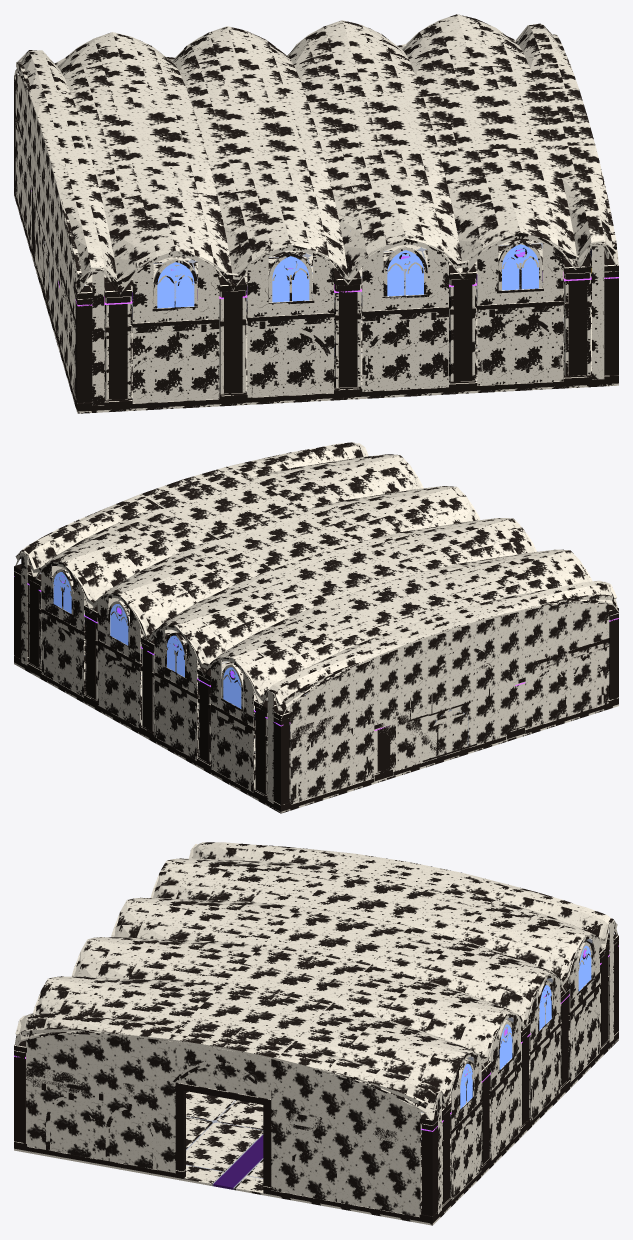
File: ILHA3_03_MINING_HALL_ac1e1a.fbx
3 renders of one model, top to bottom at view 1: azimuth 30°, elevation 25°; view 2: azimuth 150°, elevation 25°; view 3: azimuth 270°, elevation 25°, orthographic. The views are drawn at different scales.
Visible parts, largest first — view 1: SG_Hall_Vault__Stone_SGHallVault, SG_Hall_Piers__Stone_SG_Castle, SG_Hall_Piers__Stone_SG_Castle_B, SG_Hall_Piers__Stone_SG_Obsidian, SG_Hall_Windows__Glass_SGHallMoon, SG_Hall_Piers__Stone_SG_Trim, SG_Hall_Piers__Stone_SGHallNiche, SG_Hall_Vault__Stone_SG_Obsidian, SG_Hall_Windows__Stone_SG_Trim, SG_Hall_Floor__Stone_SG_Obsidian, SG_Hall_Floor__Stone_SG_MarbleBlack; view 2: SG_Hall_Vault__Stone_SGHallVault, SG_Hall_Piers__Stone_SG_Castle, SG_Hall_Piers__Stone_SG_Castle_B, SG_Hall_Piers__Stone_SG_Obsidian, SG_Hall_Piers__Stone_SG_Trim, SG_Hall_Piers__Stone_SGHallNiche, SG_Hall_Windows__Glass_SGHallMoon, SG_Hall_Vault__Stone_SG_Obsidian, SG_Hall_Floor__Stone_SG_Obsidian, SG_Hall_Altar__Stone_SGHallNiche, SG_Hall_Windows__Stone_SG_Trim, SG_Hall_Throne__Stone_SG_Obsidian (+3 smaller); view 3: SG_Hall_Vault__Stone_SGHallVault, SG_Hall_Piers__Stone_SG_Castle, SG_Hall_Piers__Stone_SG_Castle_B, SG_Hall_Piers__Stone_SG_Obsidian, SG_Hall_Piers__Stone_SG_Trim, SG_Hall_Floor__Stone_SG_MarbleBlack, SG_Hall_Piers__Stone_SGHallNiche, SG_Hall_Floor__Stone_SG_Obsidian, SG_Hall_Vault__Stone_SG_Obsidian, SG_Hall_Windows__Glass_SGHallMoon, SG_Hall_Windows__Stone_SG_Trim, SG_Hall_Floor__Cloth_SG_Purple.
Part boxes in pixels (x1,y1,x2,y2): SG_Hall_Vault__Stone_SGHallVault: (14, 14, 618, 298); SG_Hall_Piers__Stone_SG_Castle: (14, 73, 618, 405); SG_Hall_Piers__Stone_SG_Castle_B: (127, 243, 568, 398); SG_Hall_Piers__Stone_SG_Obsidian: (14, 114, 618, 411); SG_Hall_Windows__Glass_SGHallMoon: (157, 244, 538, 308); SG_Hall_Piers__Stone_SG_Trim: (14, 75, 618, 401); SG_Hall_Piers__Stone_SGHallNiche: (15, 102, 610, 323); SG_Hall_Vault__Stone_SG_Obsidian: (16, 21, 616, 286); SG_Hall_Windows__Stone_SG_Trim: (152, 239, 543, 311); SG_Hall_Floor__Stone_SG_Obsidian: (14, 194, 618, 413); SG_Hall_Floor__Stone_SG_MarbleBlack: (85, 238, 563, 397); SG_Hall_Vault__Stone_SGHallVault: (15, 442, 618, 718); SG_Hall_Piers__Stone_SG_Castle: (21, 552, 618, 804); SG_Hall_Piers__Stone_SG_Castle_B: (14, 560, 273, 803); SG_Hall_Piers__Stone_SG_Obsidian: (14, 575, 618, 811); SG_Hall_Piers__Stone_SG_Trim: (14, 564, 618, 802); SG_Hall_Piers__Stone_SGHallNiche: (41, 570, 609, 738); SG_Hall_Windows__Glass_SGHallMoon: (53, 572, 241, 708); SG_Hall_Vault__Stone_SG_Obsidian: (15, 443, 617, 706); SG_Hall_Floor__Stone_SG_Obsidian: (14, 629, 618, 813); SG_Hall_Altar__Stone_SGHallNiche: (396, 653, 492, 770); SG_Hall_Windows__Stone_SG_Trim: (51, 568, 243, 711); SG_Hall_Throne__Stone_SG_Obsidian: (410, 708, 489, 770); SG_Hall_Vault__Stone_SGHallVault: (14, 842, 618, 1123); SG_Hall_Piers__Stone_SG_Castle: (14, 936, 618, 1213); SG_Hall_Piers__Stone_SG_Castle_B: (271, 921, 613, 1216); SG_Hall_Piers__Stone_SG_Obsidian: (14, 975, 618, 1223); SG_Hall_Piers__Stone_SG_Trim: (14, 933, 618, 1206); SG_Hall_Floor__Stone_SG_MarbleBlack: (186, 1035, 530, 1206); SG_Hall_Piers__Stone_SGHallNiche: (26, 972, 599, 1146); SG_Hall_Floor__Stone_SG_Obsidian: (14, 1019, 618, 1225); SG_Hall_Vault__Stone_SG_Obsidian: (15, 844, 617, 1109); SG_Hall_Windows__Glass_SGHallMoon: (460, 945, 591, 1108); SG_Hall_Windows__Stone_SG_Trim: (459, 942, 593, 1111); SG_Hall_Floor__Cloth_SG_Purple: (213, 1135, 263, 1189).
Bounding box in the file's own units: 114 × 28.65 × 112.
Materials: 9 (1 with a texture image).
